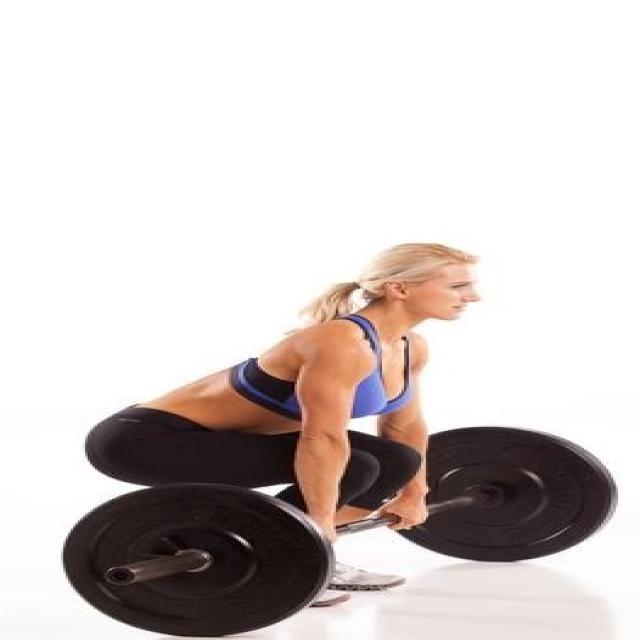deadlift: (57, 228, 639, 640)
